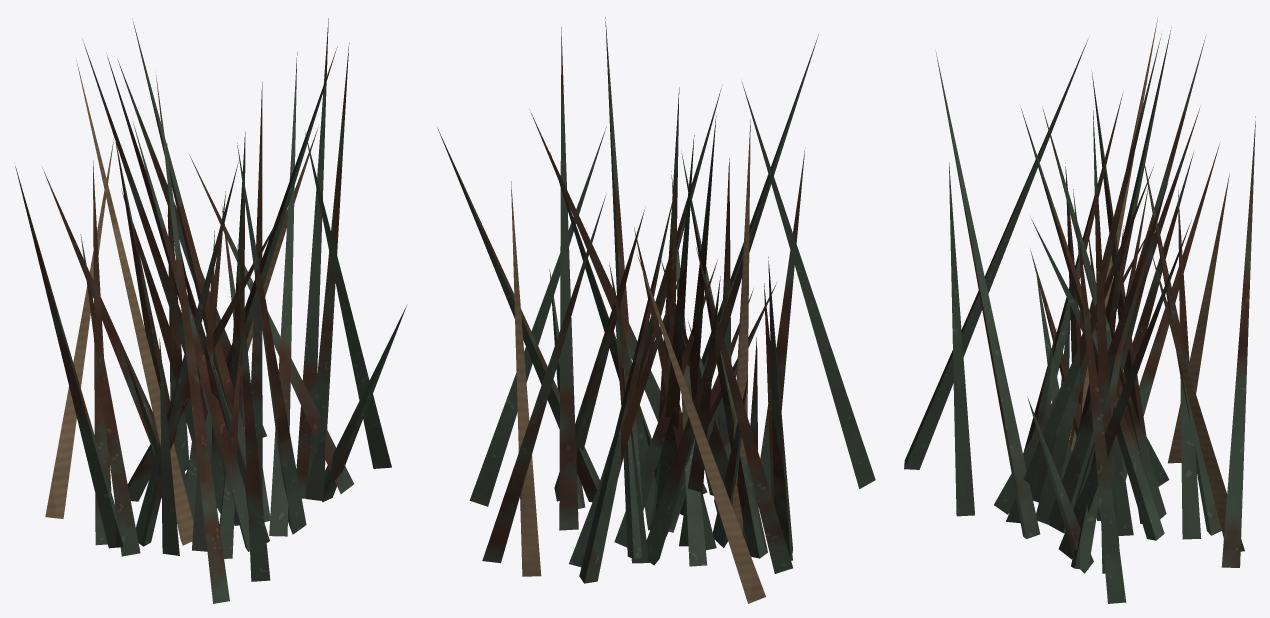
The model's file is NT03_tall_grass_clump_v2.glb.
The picture shows the model from 3 angles, left to right: view 1: azimuth 30°, elevation 25°; view 2: azimuth 150°, elevation 25°; view 3: azimuth 270°, elevation 25°; orthographic projection. The views are drawn at different scales.
Parts seen in each view (by area): view 1: NT03_tall_grass_clump_v2; view 2: NT03_tall_grass_clump_v2; view 3: NT03_tall_grass_clump_v2.
Part boxes in pixels (x1,y1,x2,y2): NT03_tall_grass_clump_v2: (15, 18, 407, 603); NT03_tall_grass_clump_v2: (437, 17, 875, 603); NT03_tall_grass_clump_v2: (904, 18, 1255, 603).
Size of the model in its own units: 0.7054 by 1 by 0.6641.
2 materials, 2 textured.
